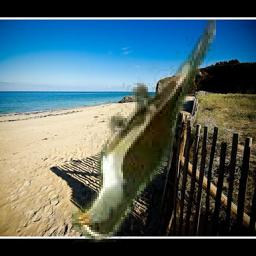Cuckoo: (72, 21, 216, 244)
